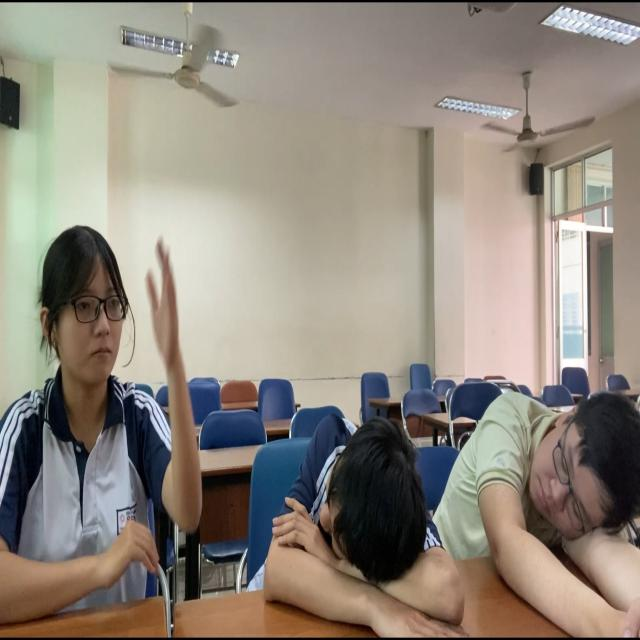raise_hand: (1, 181, 225, 640)
sleep: (445, 337, 640, 640), (246, 391, 463, 640)
